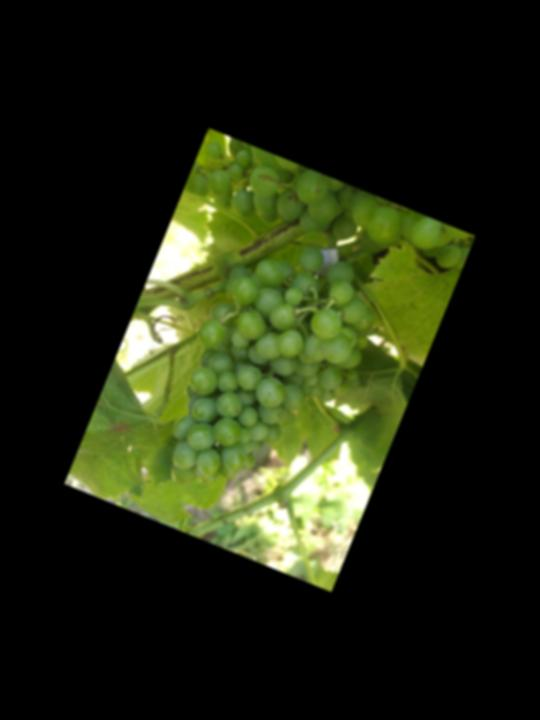grape: (139, 215, 395, 532)
